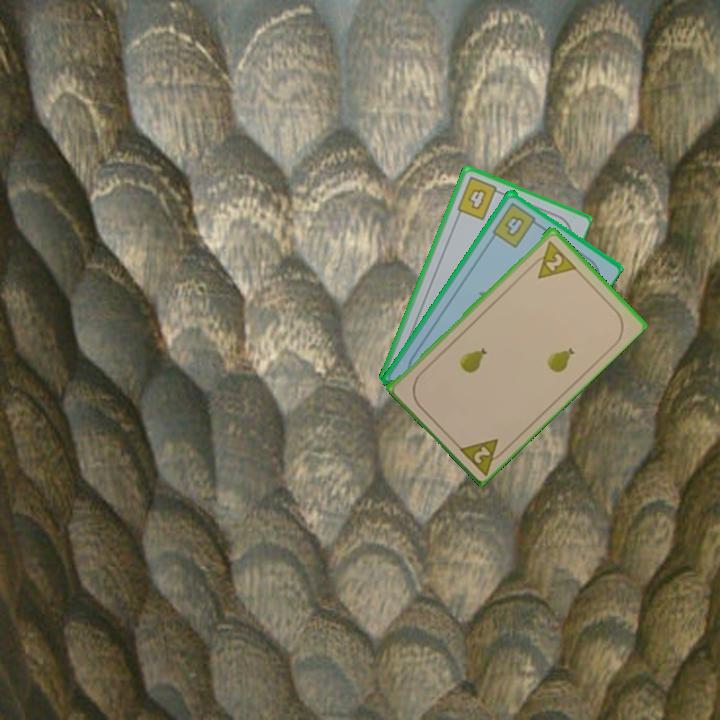2p: (454, 434, 510, 477), (526, 236, 578, 281)
4b: (489, 198, 543, 250), (453, 173, 505, 223)
